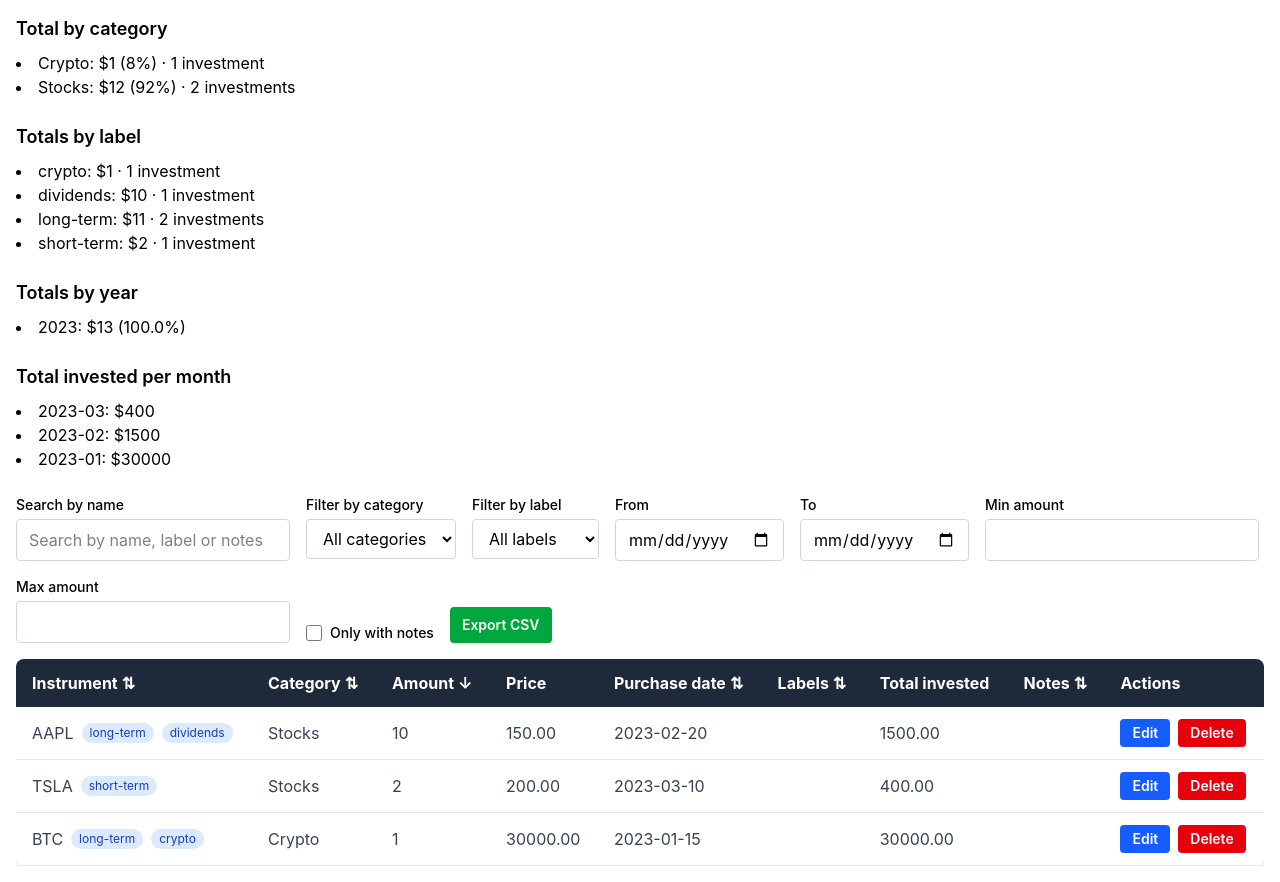
Test: HomePage › filter by custom label › selecting "All labels" restores the list to what the category filter alone would show
The width and height of the screenshot is (1280, 882).
(page scrolled)
Step 1. Select "Stocks" in the dropdown labelled "Filter by category" → (381, 539), box top-left (306, 519), bottom-right (456, 559)
(page scrolled)
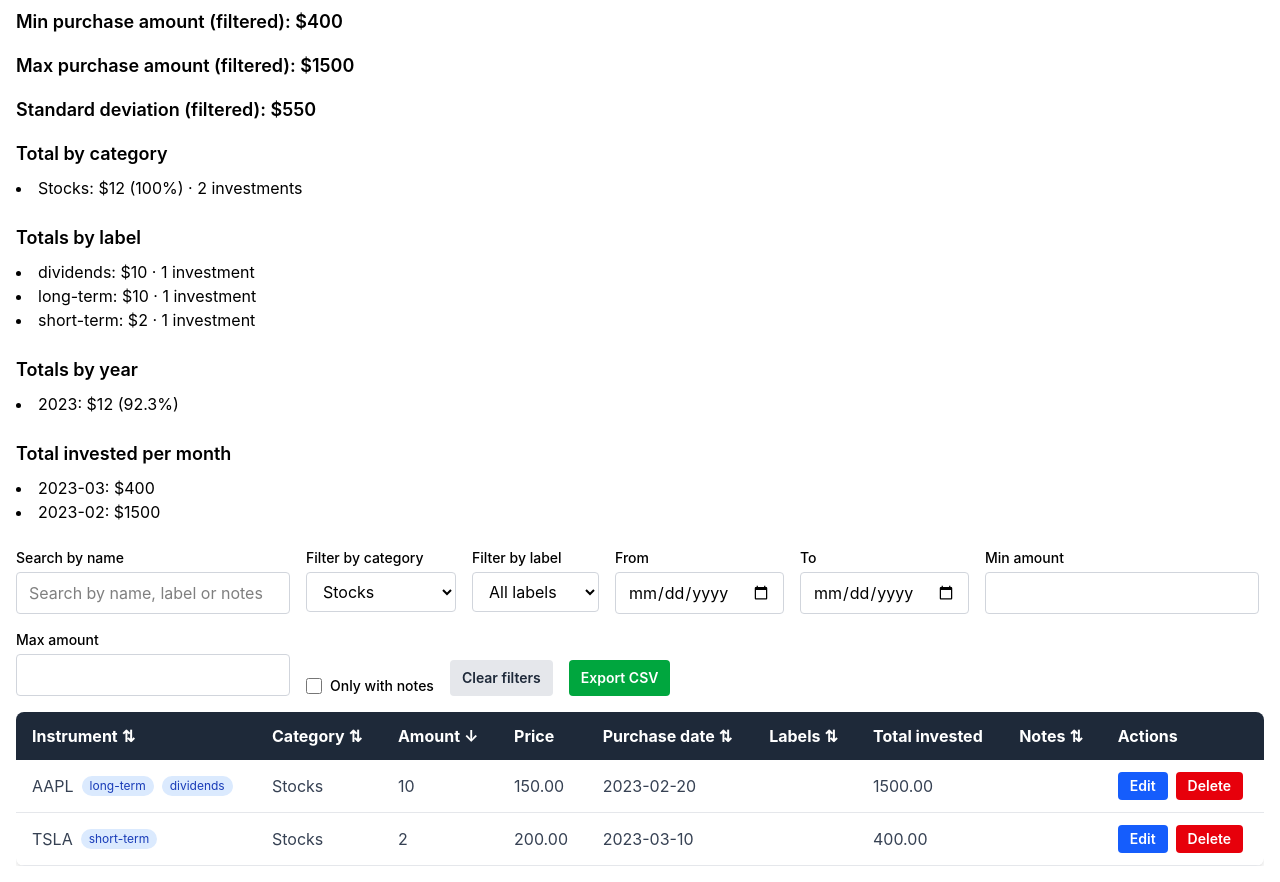
Step 2. Select "long-term" in the dropdown labelled "Filter by label" → (536, 592), box top-left (472, 572), bottom-right (599, 612)
(page scrolled)
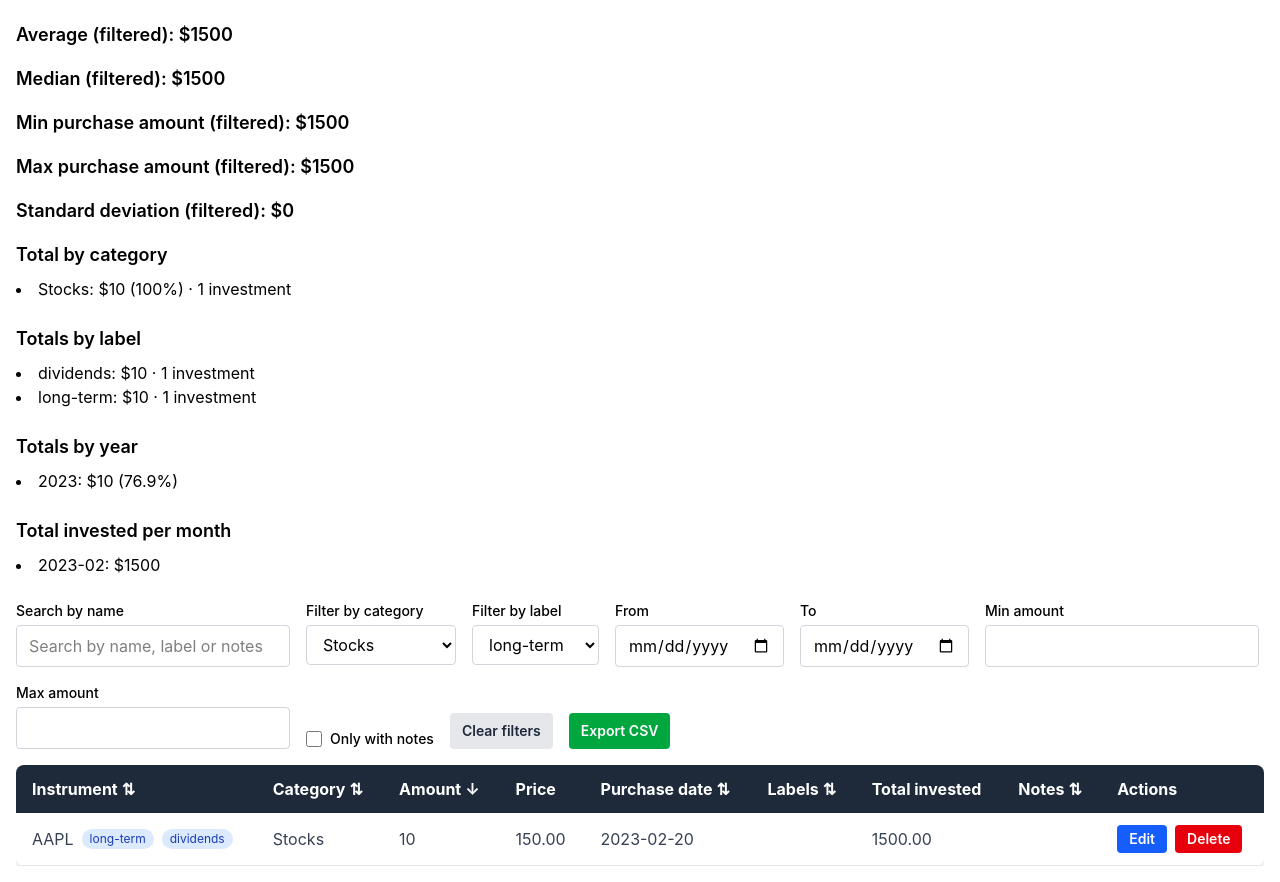
Step 3. Select "All labels" in the dropdown labelled "Filter by label" → (536, 645), box top-left (472, 625), bottom-right (599, 665)
(page scrolled)
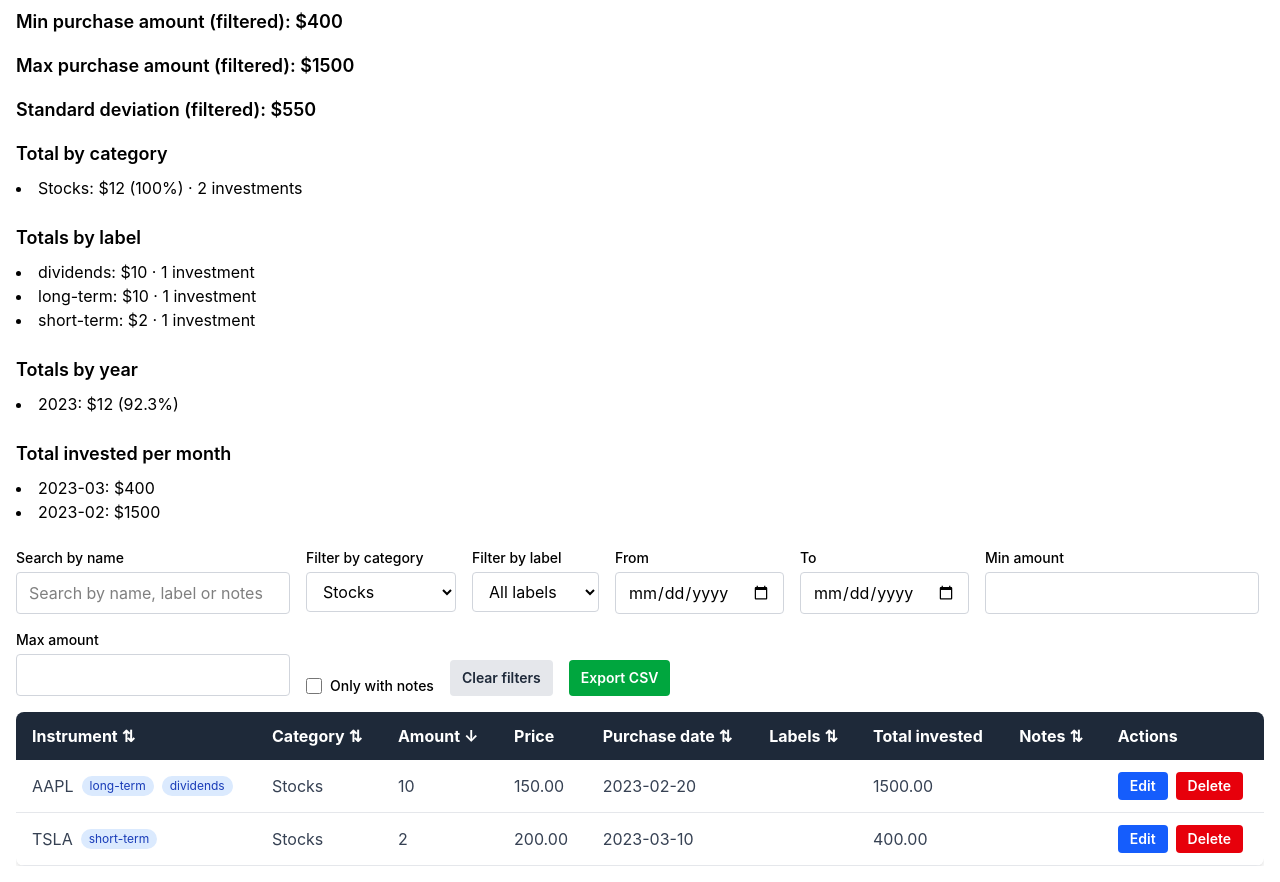
Expected: the text "AAPL" is shown, top-left (32, 774), bottom-right (74, 798)
Expected: the text "BTC" is not shown
Expected: the text "TSLA" is shown, top-left (32, 827), bottom-right (73, 851)
